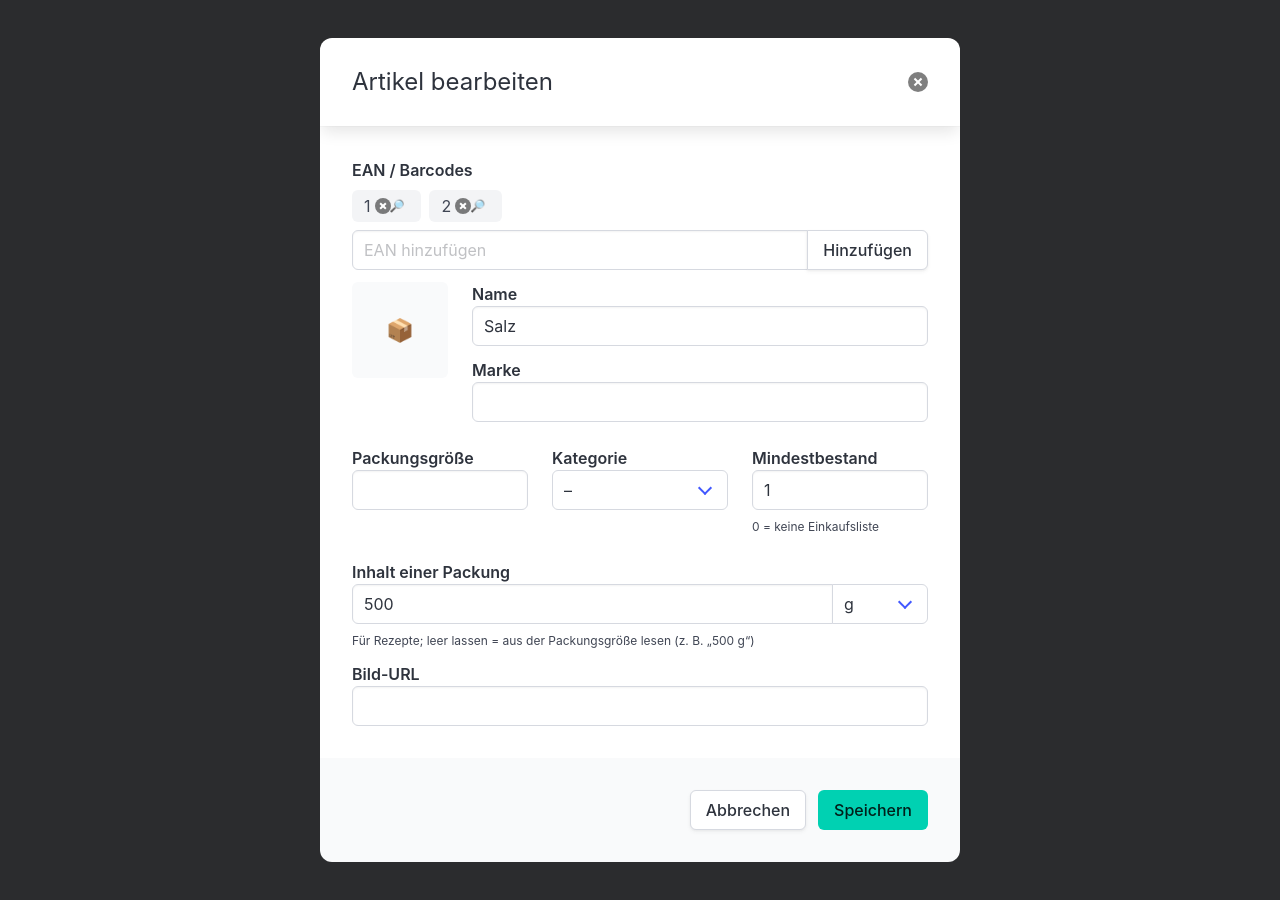
Test: ArticleModal › updates an article and removes barcodes
The image size is (1280, 900).
Step 1. Replace the text in the number field named "Inhaltsmenge" with "1" → (592,604), box [352,584,833,624]
Step 2. Select "Stück" in the dropdown named "Inhaltseinheit" → (880,604), box [832,584,928,624]
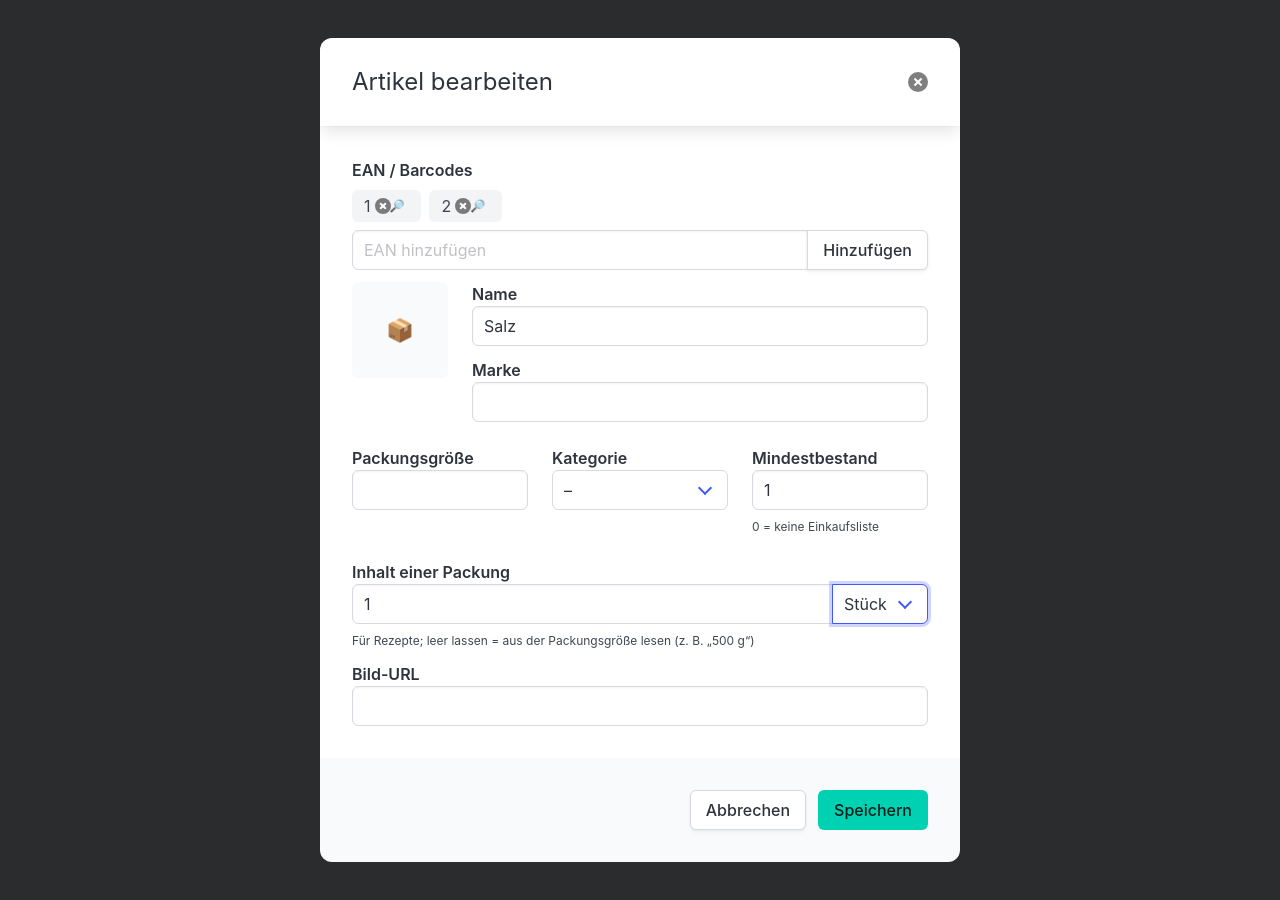
Expected: the text "Artikel bearbeiten" is shown, [352,67,553,96]
Step 3. Click the button named "EAN 1 nachschlagen" → (397,206), box [384,191,410,221]
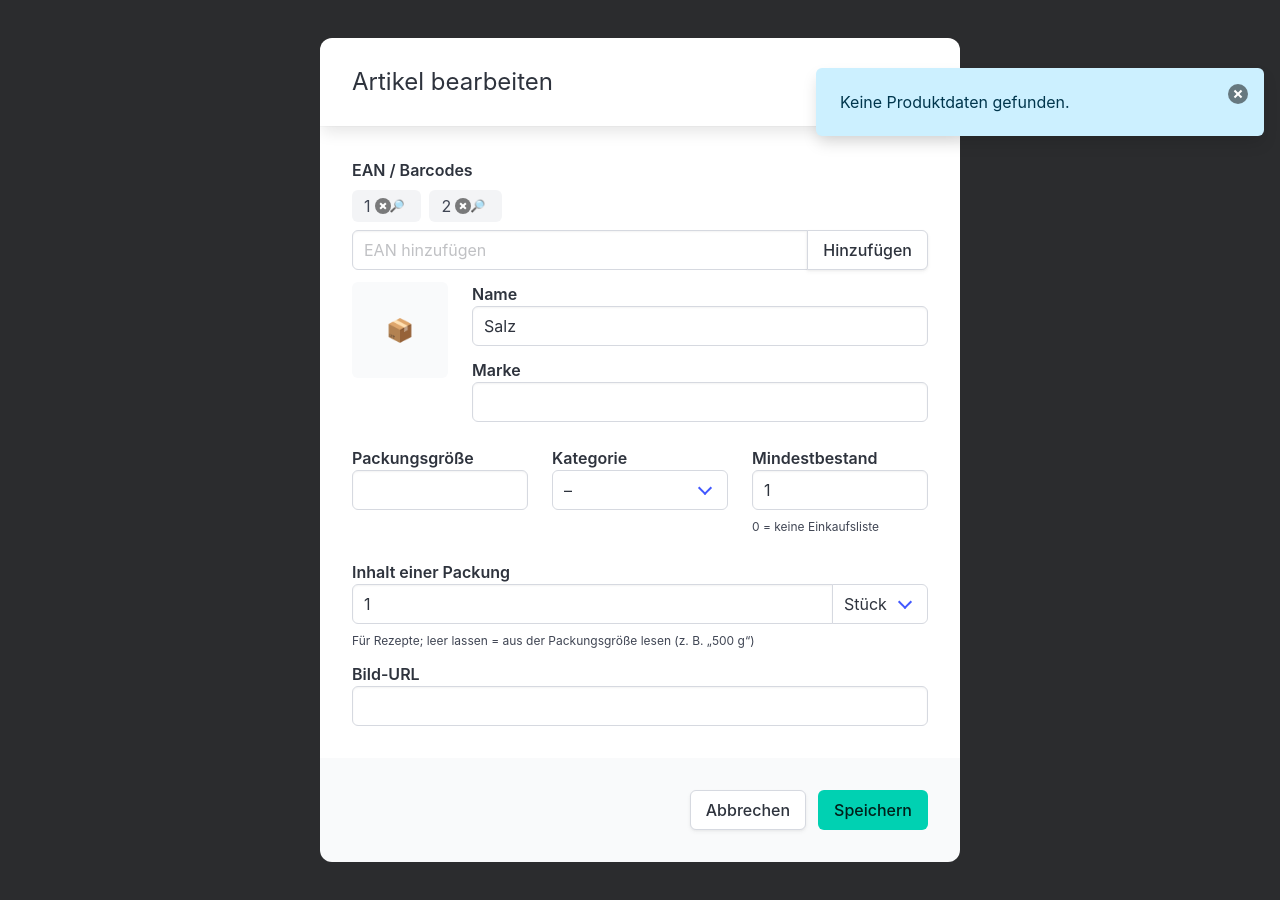
Now the text "Keine Produktdaten gefunden." is shown, box [816,68,1264,136]
Step 4. Click the button named "EAN 1 entfernen" → (382,206), box [374,198,390,214]
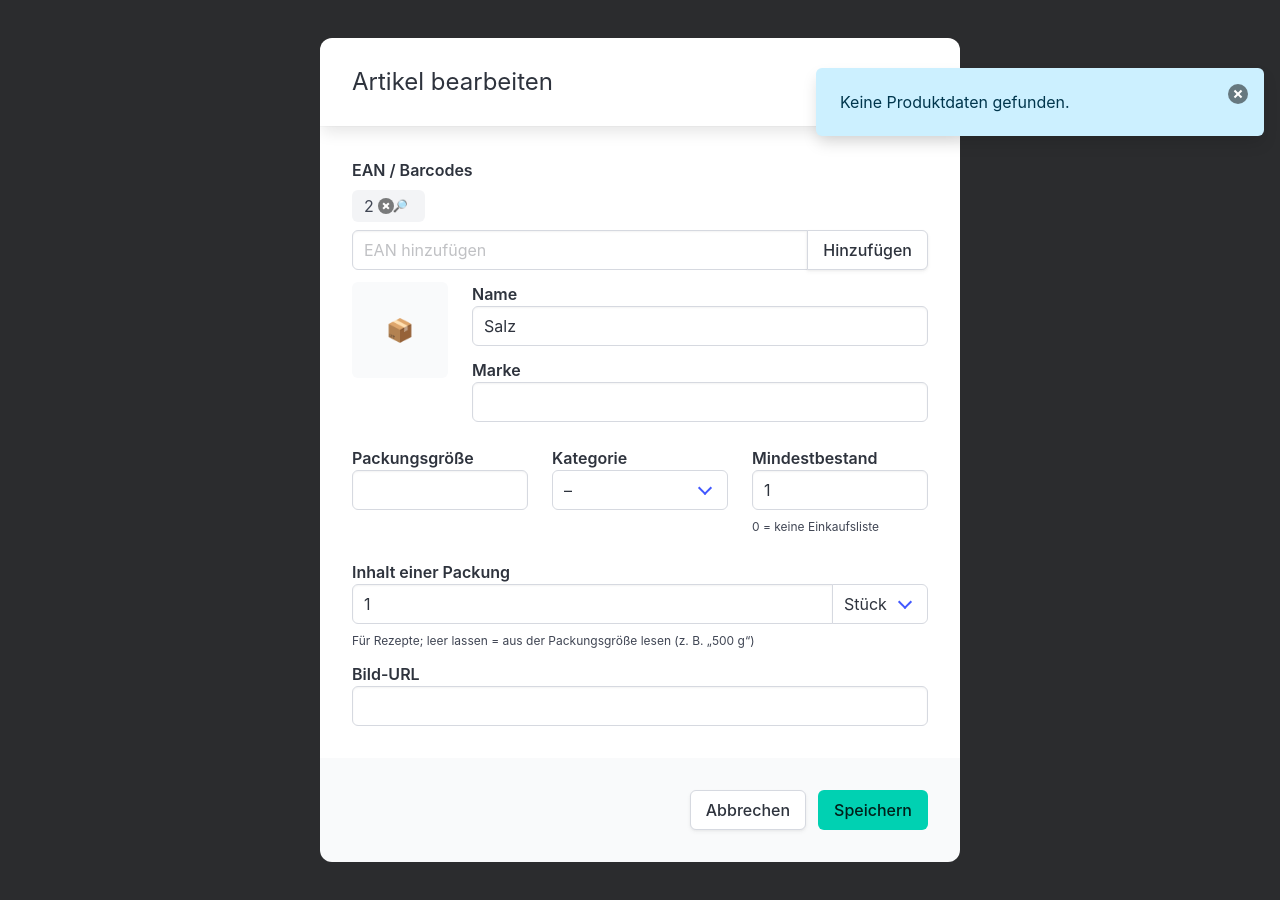
Step 5. Type "Bad Reichenhaller" into the field labelled "Marke" → (700,402), box [472,382,928,422]
Step 6. Type "1 kg" into the field labelled "Packungsgröße" → (440,490), box [352,470,528,510]
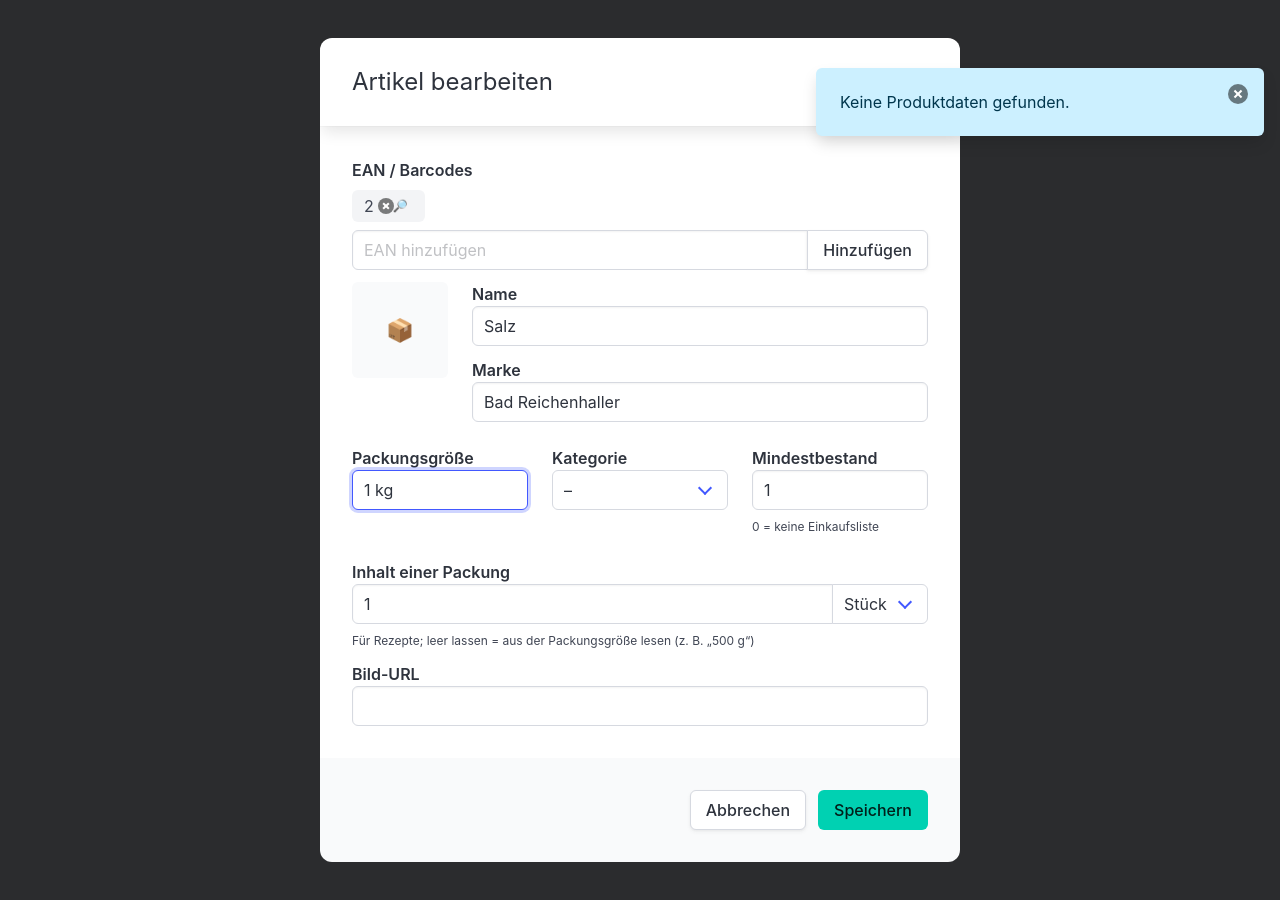
Step 7. Type "img" into the field labelled "Bild-URL" → (640,706), box [352,686,928,726]
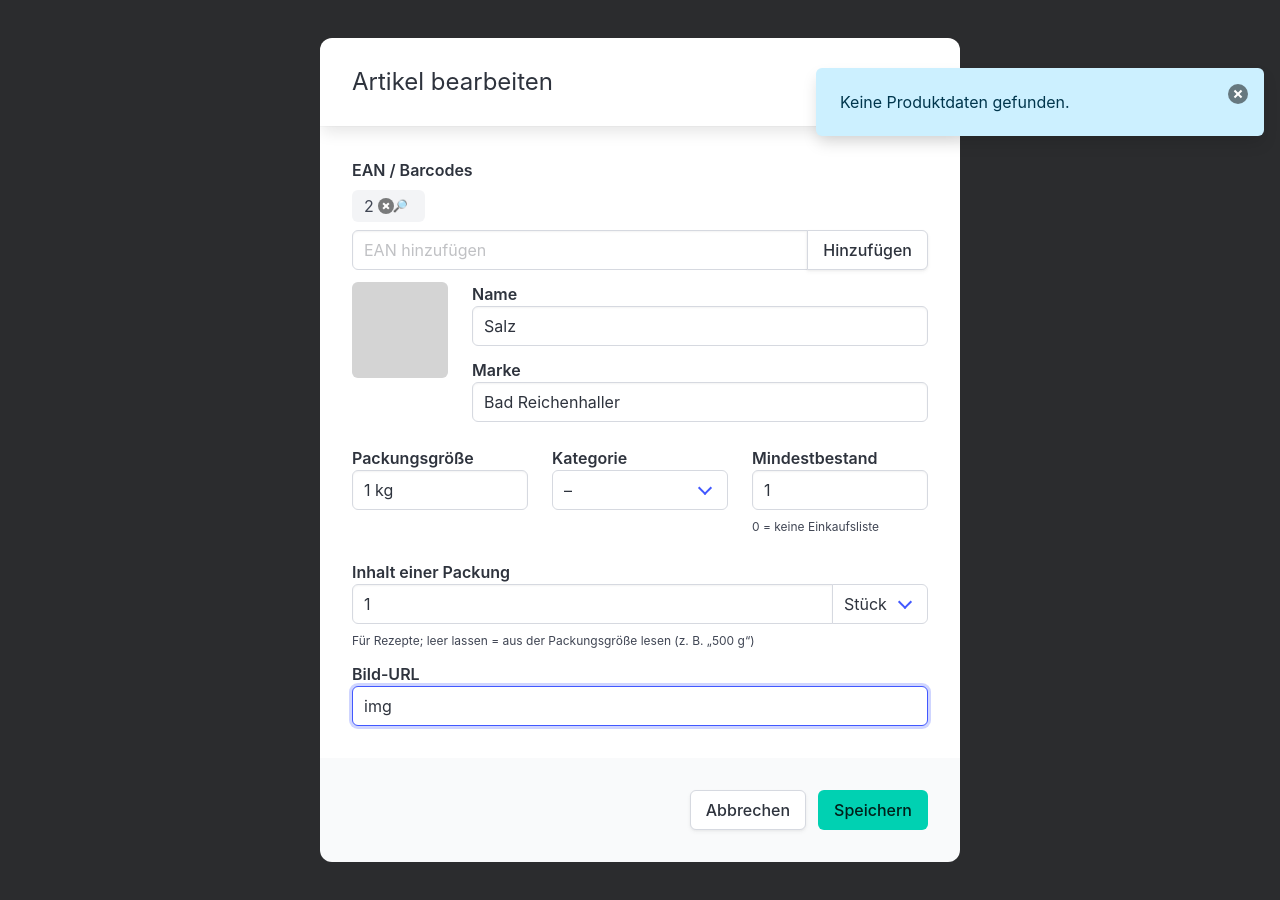
Step 8. Click the button "Speichern" → (873,810), box [818,790,928,830]
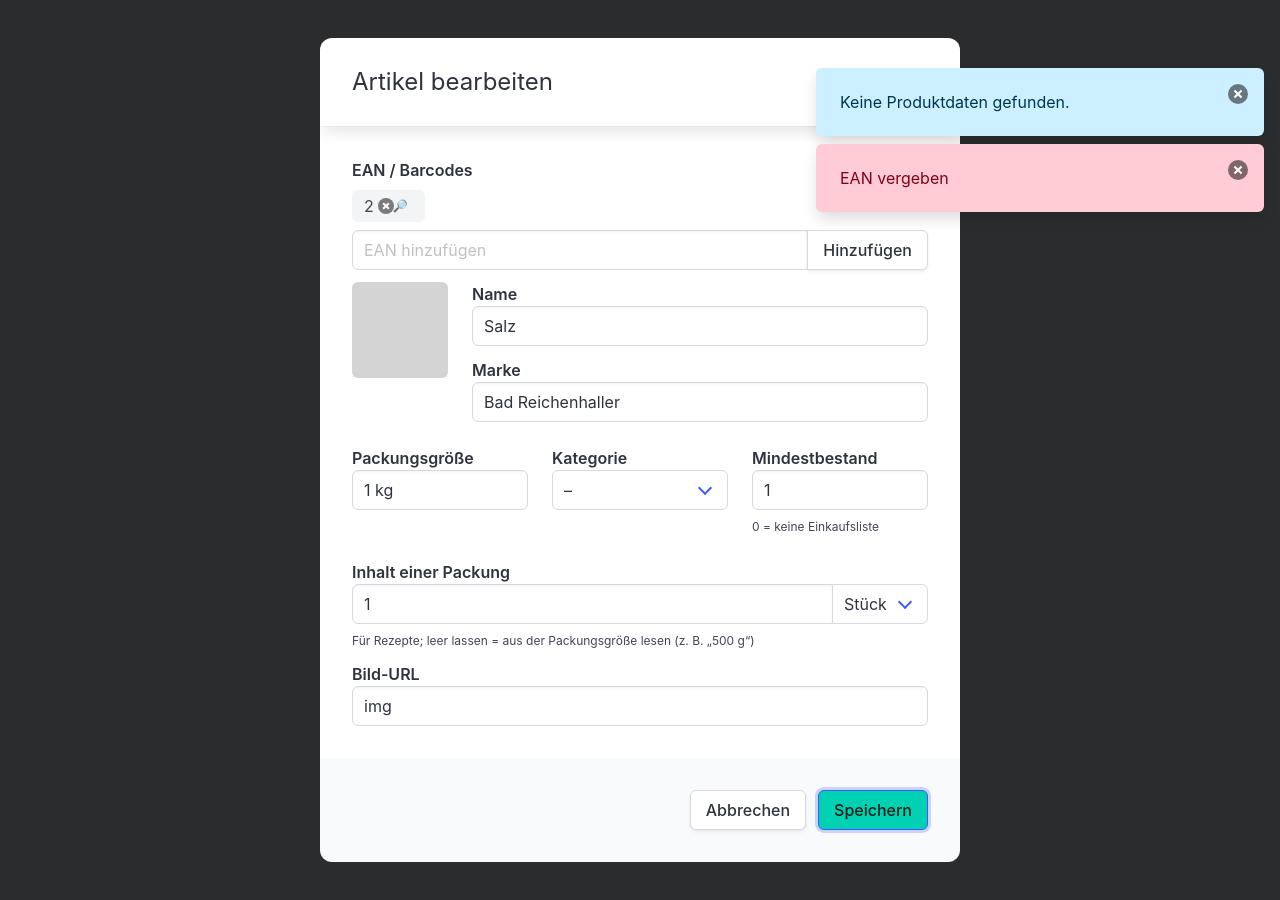
Now the text "EAN vergeben" is shown, box [816,144,1264,212]
